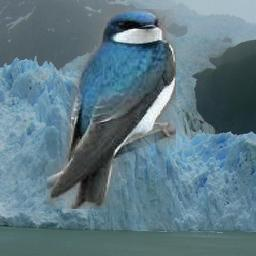Swallow: (48, 9, 177, 209)
